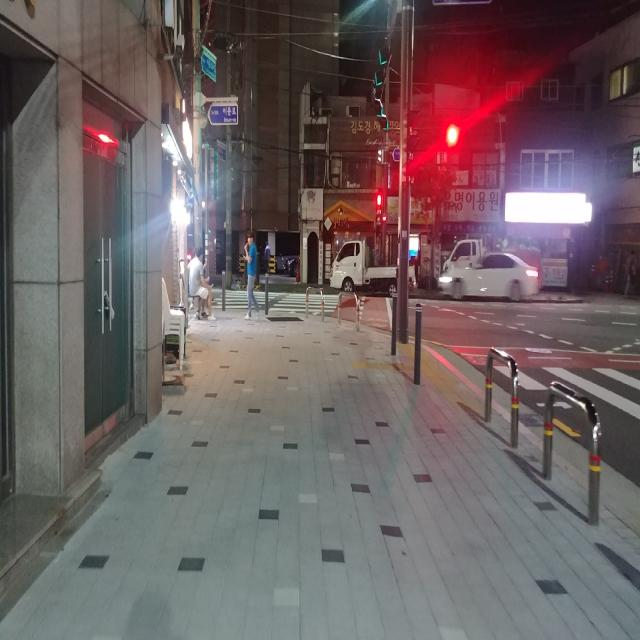빨간불: (376, 192, 383, 224)
횡단보도: (490, 364, 640, 426), (211, 288, 342, 317)
